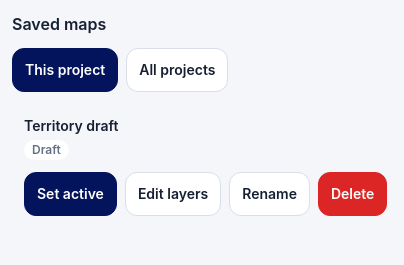
Test: SavedMapsList › shows an error and rolls back when setting the active map fails
This screenshot has width=404, height=265.
Click the button "Set active" at (70, 194), box [24, 172, 117, 216]
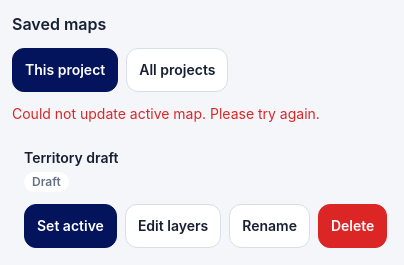
Expected: the message reads "Could not update active map. Please try again.", [12, 105, 320, 122]
